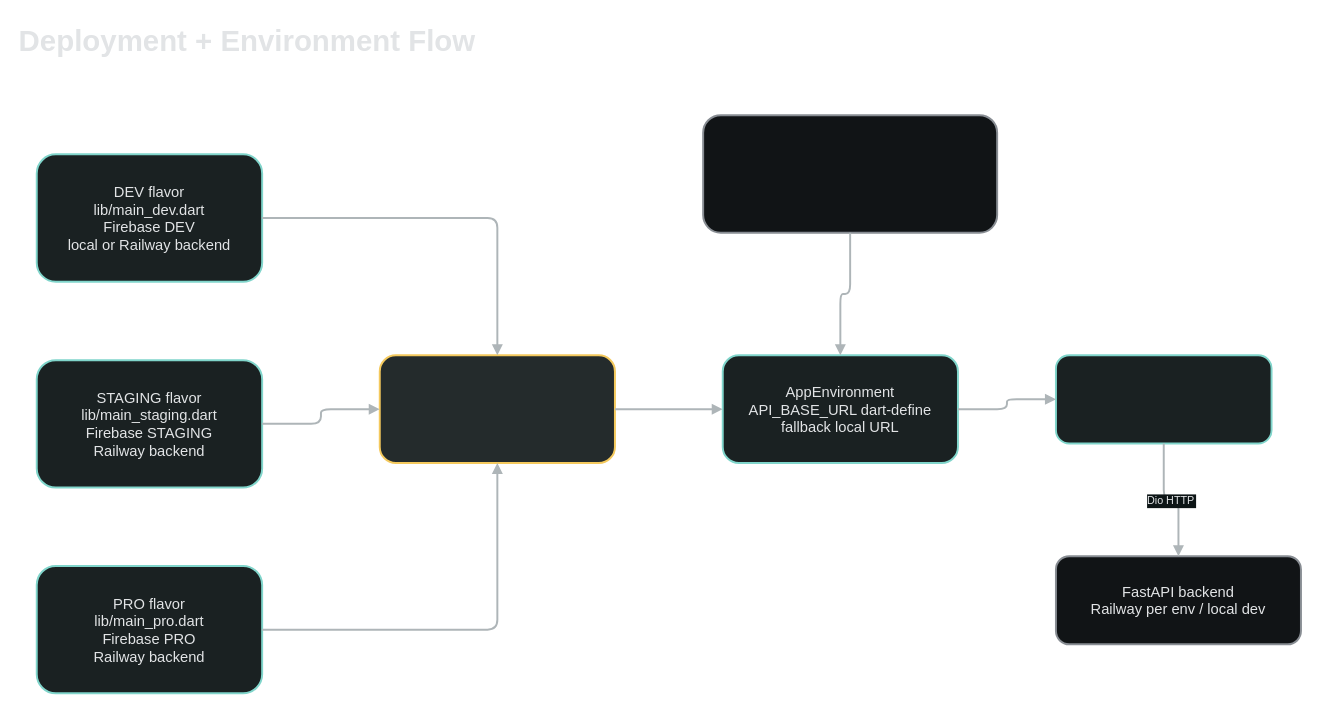
The diagram is 1318 pixels wide and 711 high, and some of its shapes have lost their labels. Each missing label, with the centre of its shape:
"ApiConfig.baseUrl feeds Dio BaseOptions" belongs at (1163,399).
"CI secrets FIREBASE_DART_DEFINES_JSON API_BASE_URL_DEV/STAGING/PRO" belongs at (850,173).
"FlavorConfig singleton initialized before runApp" belongs at (496,409).
